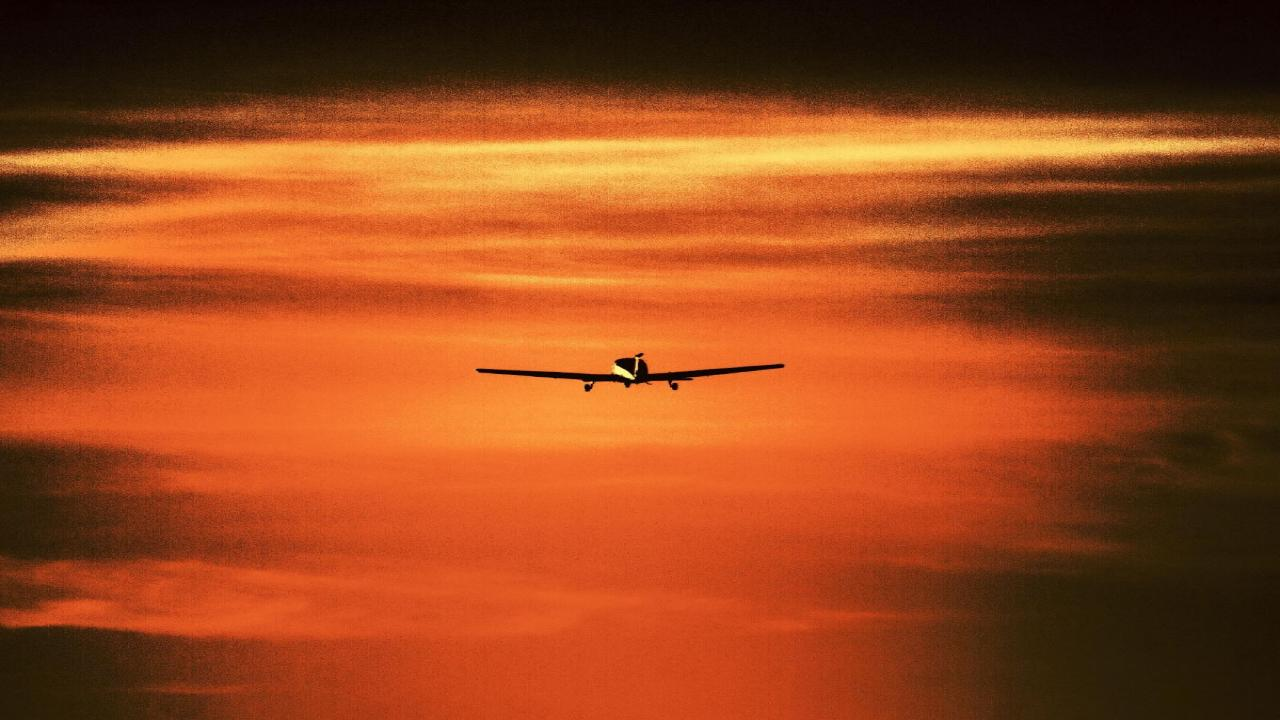Airplane: (456, 343, 806, 399)
